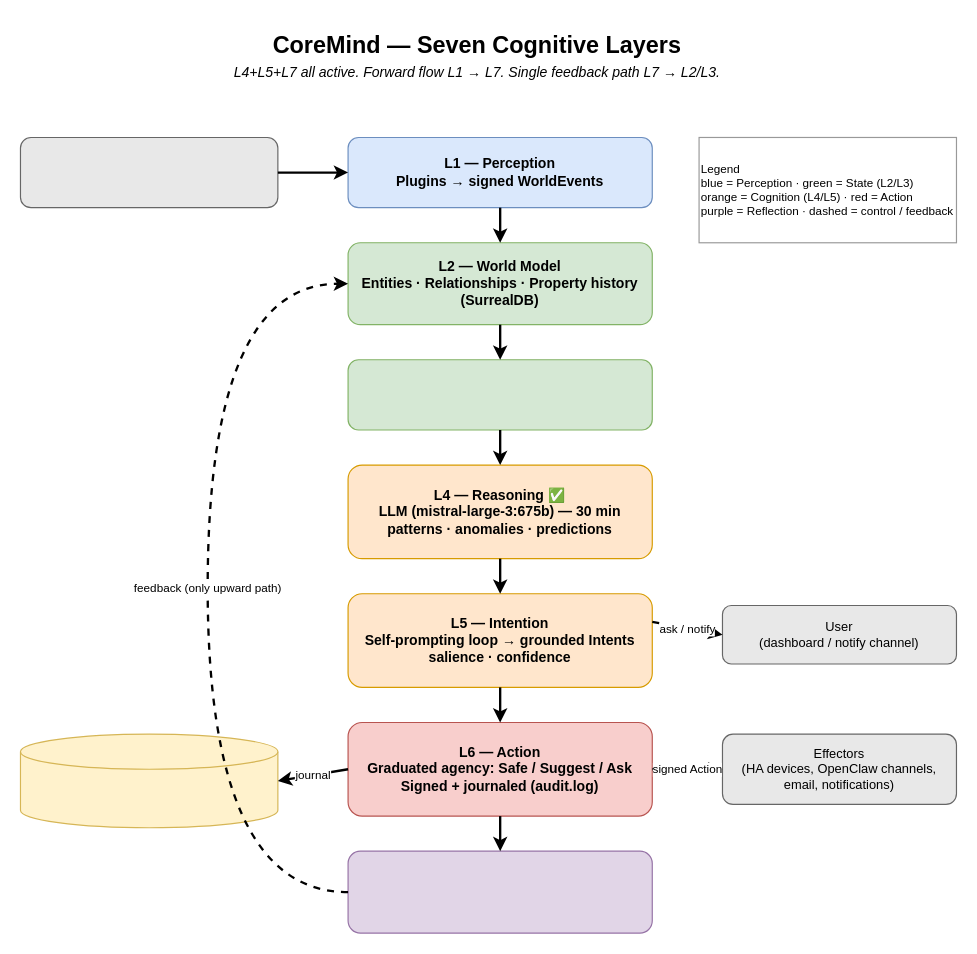
This 977x954 diagram has some shape labels left out. Here are the shapes that lost their labels. From the top down, the box of each, then its label:
(19, 136, 278, 208): External signals (HA, IMAP, webhooks, sensors, Notion, …)
(347, 359, 652, 430): L3 — Memory Episodic · Semantic (Qdrant) · Procedural
(19, 733, 278, 828): Audit Journal ~/.coremind/audit.log (append-only, hash-chained, ed25519)
(347, 850, 652, 933): L7 — Reflection ✅ Daily (24h) meta-cognition · calibration · rule learning
